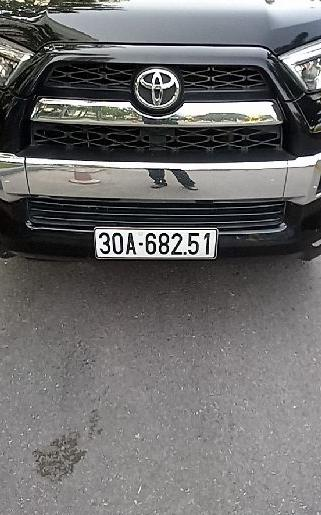Plate-iWeP: (96, 226, 218, 259)
